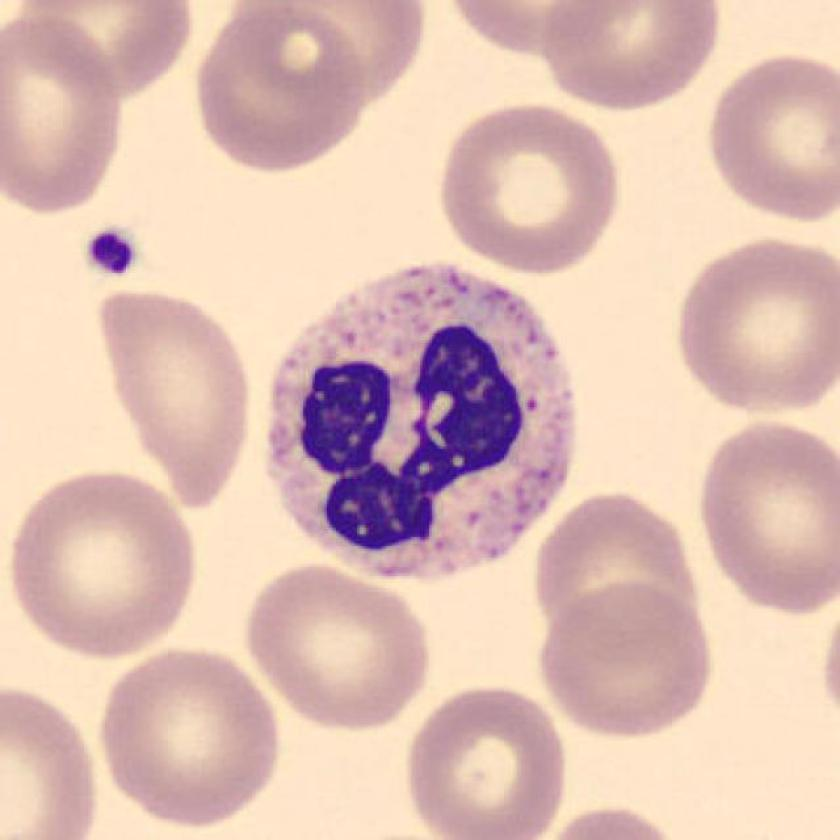neutrophil: (265, 266, 576, 580)
